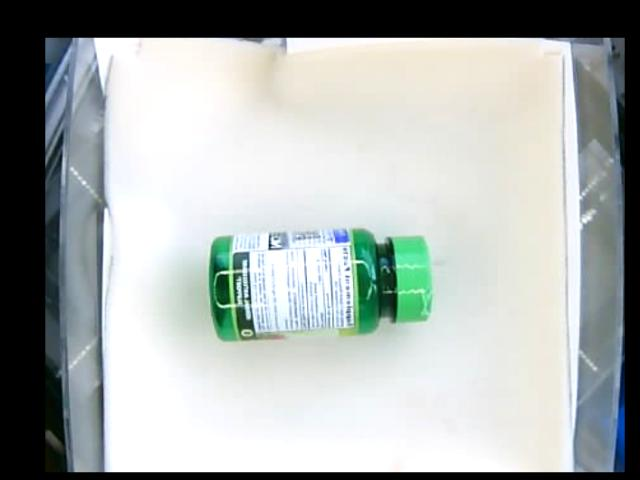Bottle: (211, 226, 431, 341)
